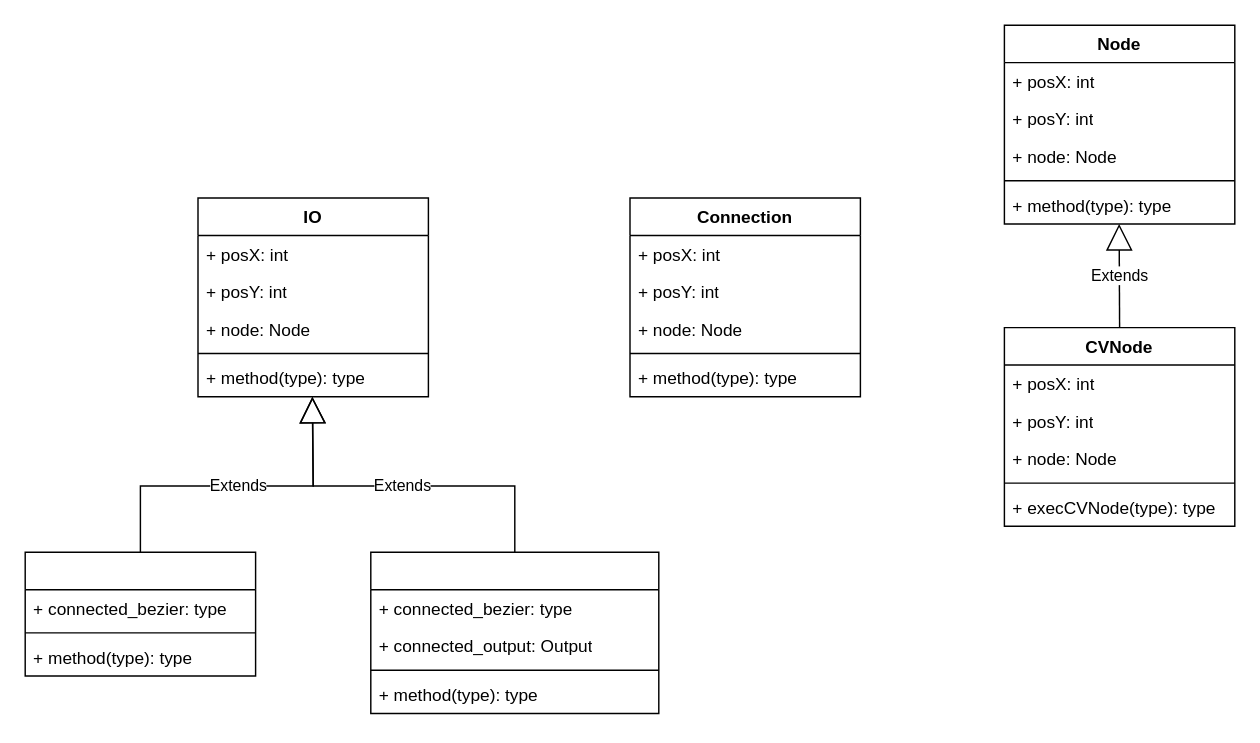
Image size: 1260x743. Some labels were removed from this diagram. The box of each missing label's shape, as (x1, y1, x2, y2) in pixels:
Input: (369, 551, 659, 714)
Output: (24, 551, 256, 676)
